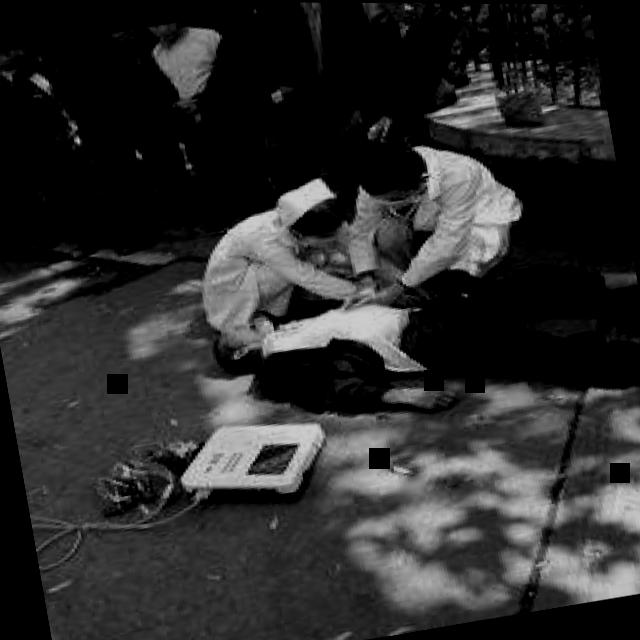Fall-Detected: (189, 224, 640, 458)
